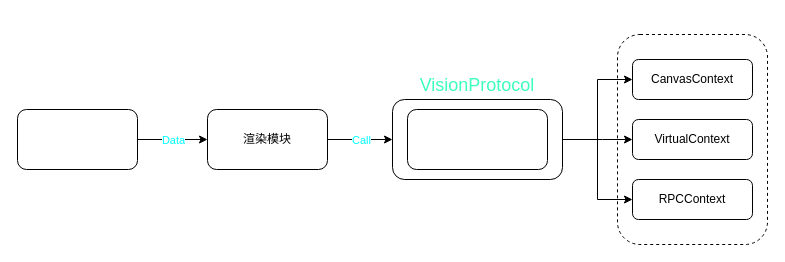
This 785x262 diagram has some shape labels left out. Each missing label, with the box of its shape:
渲染上下文容器: (616, 34, 768, 244)
渲染上下文容器(VisionContext): (406, 108, 548, 170)
计算模块: (16, 108, 138, 170)
